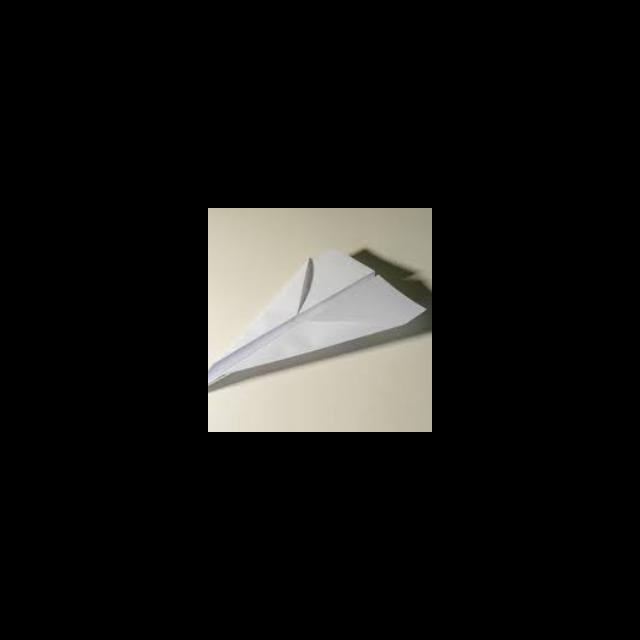paper: (208, 252, 425, 387)
